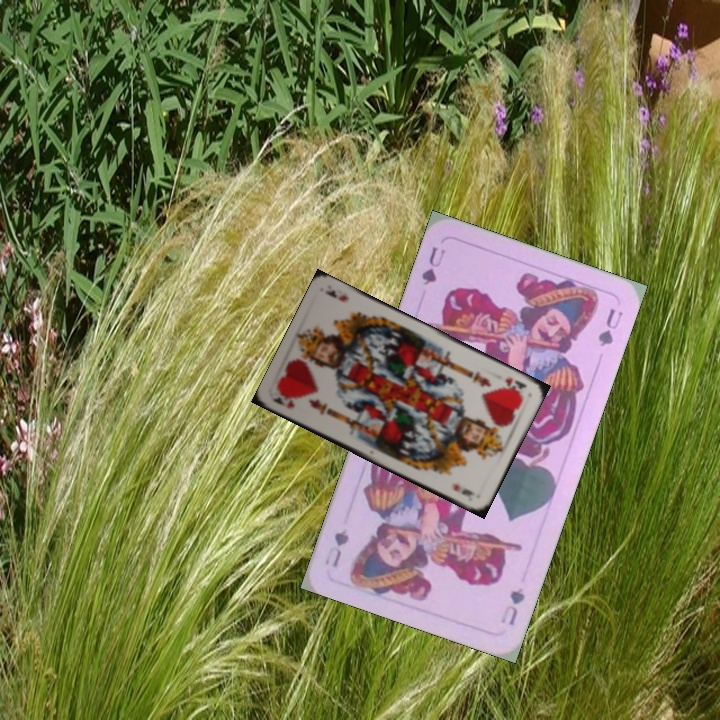GU: (496, 583, 528, 628), (417, 242, 448, 288)
HK: (501, 373, 530, 398), (269, 389, 297, 411)
